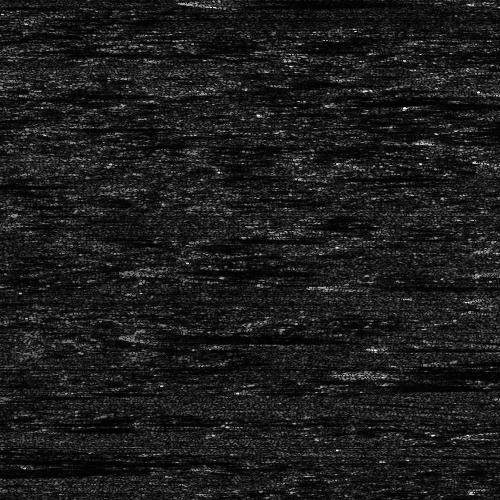rock: (439, 256, 500, 285), (336, 365, 429, 378), (97, 263, 180, 276), (53, 118, 106, 133), (297, 281, 370, 288), (173, 0, 256, 6), (0, 46, 67, 53), (449, 429, 500, 438), (205, 234, 246, 241), (400, 101, 453, 106), (123, 333, 176, 338), (481, 155, 500, 164), (0, 452, 13, 465), (308, 175, 349, 178), (372, 340, 383, 351)
shadow: (0, 452, 209, 465), (139, 263, 286, 276), (80, 118, 198, 133), (383, 365, 500, 378), (31, 46, 210, 53), (334, 281, 496, 288), (378, 340, 481, 351), (215, 0, 400, 6), (150, 333, 331, 338), (0, 465, 68, 478), (226, 234, 315, 241), (0, 180, 48, 189), (329, 175, 458, 178), (427, 101, 500, 106), (345, 382, 379, 385)
